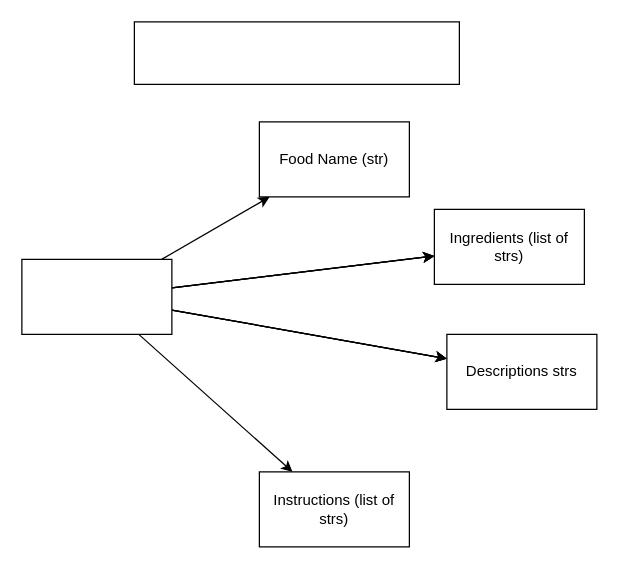
Image size: 619x569. Some labels were removed from this diagram. The box of each missing label's shape, as (x1, y1, x2, y2) in pixels:
CAN EDIT BELOW: (133, 21, 459, 84)
Edit Food: (21, 258, 172, 334)
